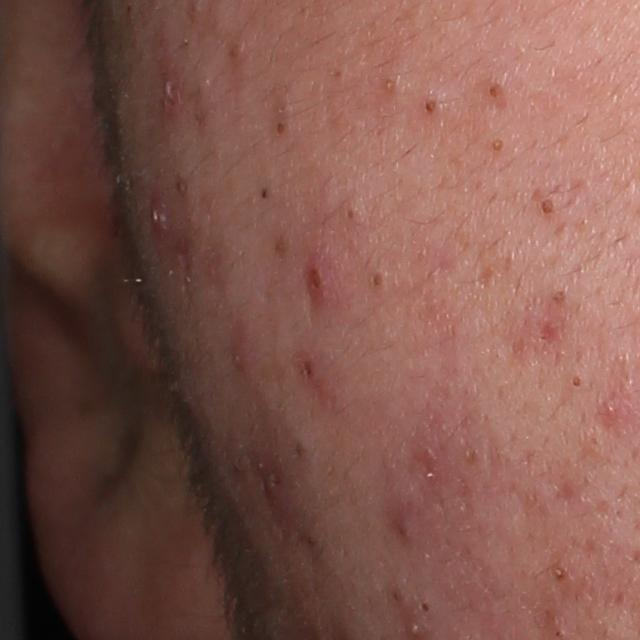atrophic_scar: (536, 319, 557, 346)
comedo: (364, 268, 386, 294), (417, 96, 442, 118), (337, 203, 362, 225), (264, 120, 291, 139), (483, 80, 503, 105), (225, 37, 245, 62), (548, 560, 570, 582), (388, 587, 408, 609), (377, 75, 397, 96), (537, 196, 556, 217), (256, 187, 275, 206), (566, 374, 585, 392), (487, 137, 506, 155), (414, 598, 433, 615), (173, 177, 188, 195)
papule: (300, 256, 334, 302), (229, 325, 254, 376), (159, 74, 185, 117)
